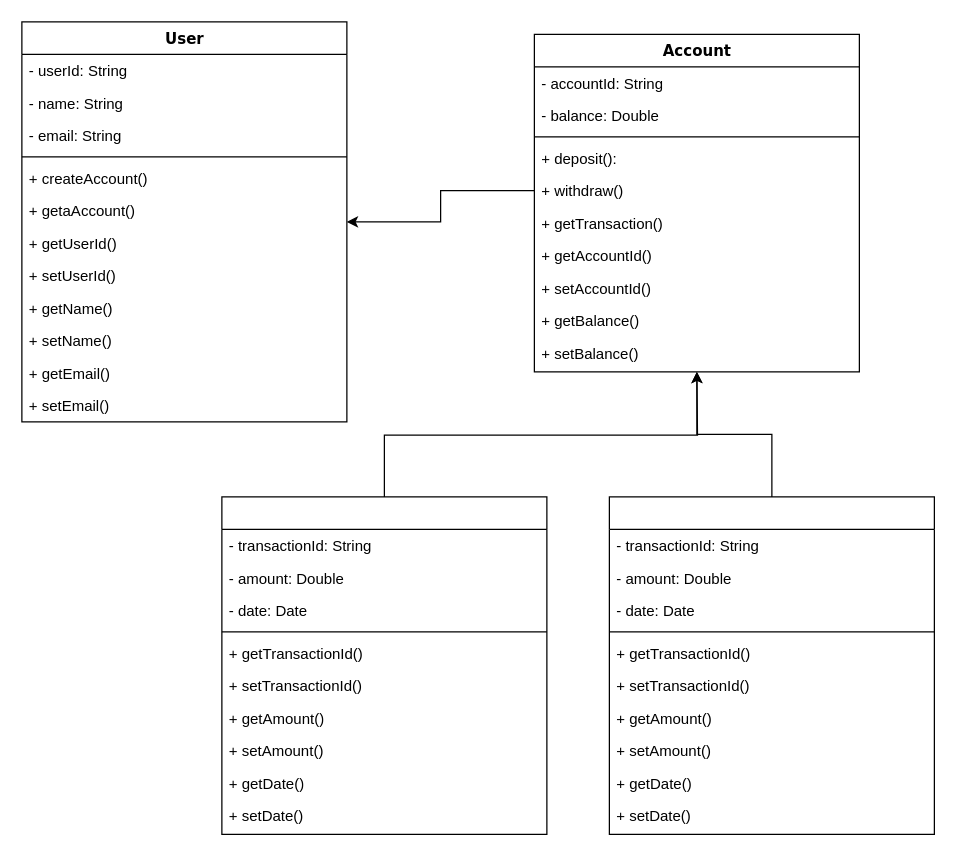
This 956x858 diagram has some shape labels left out. Here are the shapes that lost their labels. From the top down, the box of each, then its label:
(221, 496, 547, 834): Withdrawal
(608, 496, 934, 834): Deposit
